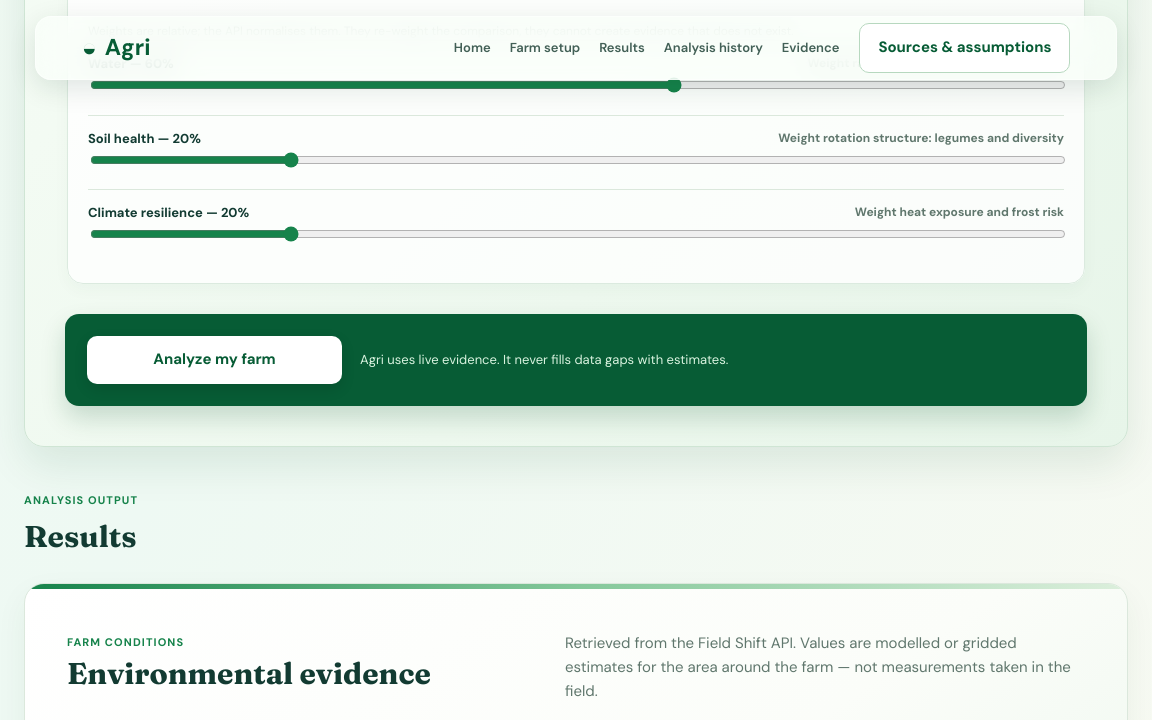
Test case: Field Shift application › refuses to show a winner when the evidence is insufficient
(page scrolled)
Click the button "Analyze my farm": [214, 360] box [87,336,342,384]
(page scrolled)
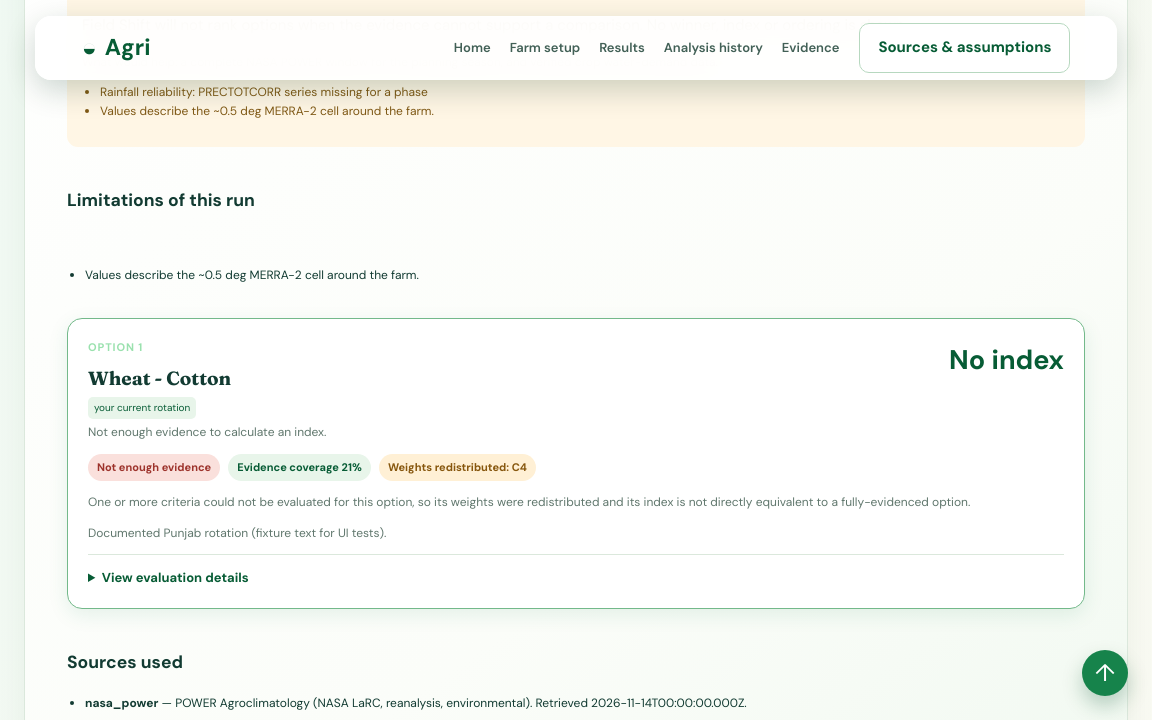
Check: the text "no winner, index or ordering is shown" is shown, box [82,15,908,35]
Check: the text "No index" is shown, box [949,339,1064,381]
